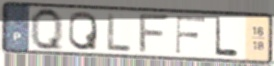F: (137, 13, 173, 55), (174, 15, 208, 55)
L: (106, 11, 133, 53), (213, 16, 239, 58)
Q: (28, 6, 66, 54), (67, 10, 99, 52)
